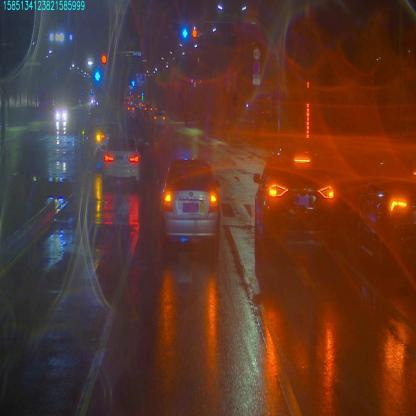traffic-light: (181, 27, 188, 41), (191, 26, 196, 41)
